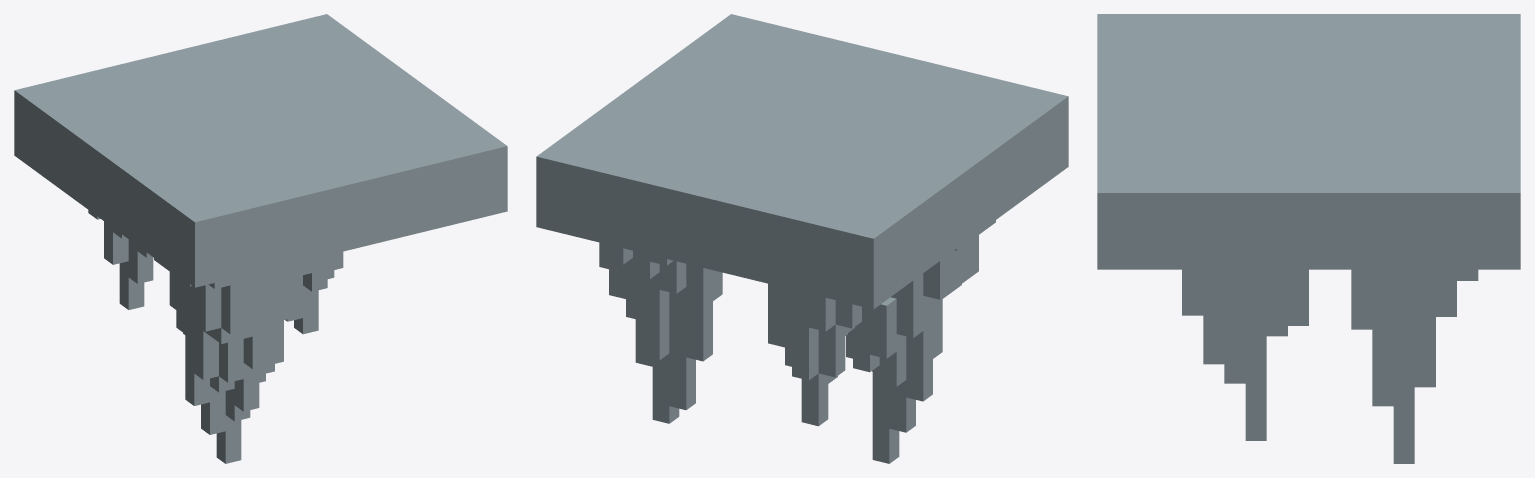
Rendered from Floors-5.obj.
3 views of the same model, side by side, from view 1: azimuth 30°, elevation 25°; view 2: azimuth 150°, elevation 25°; view 3: azimuth 270°, elevation 25° (orthographic). The views are drawn at different scales.
Size of the model in its own units: 2 by 1.9 by 2.
1 material, 1 textured.
